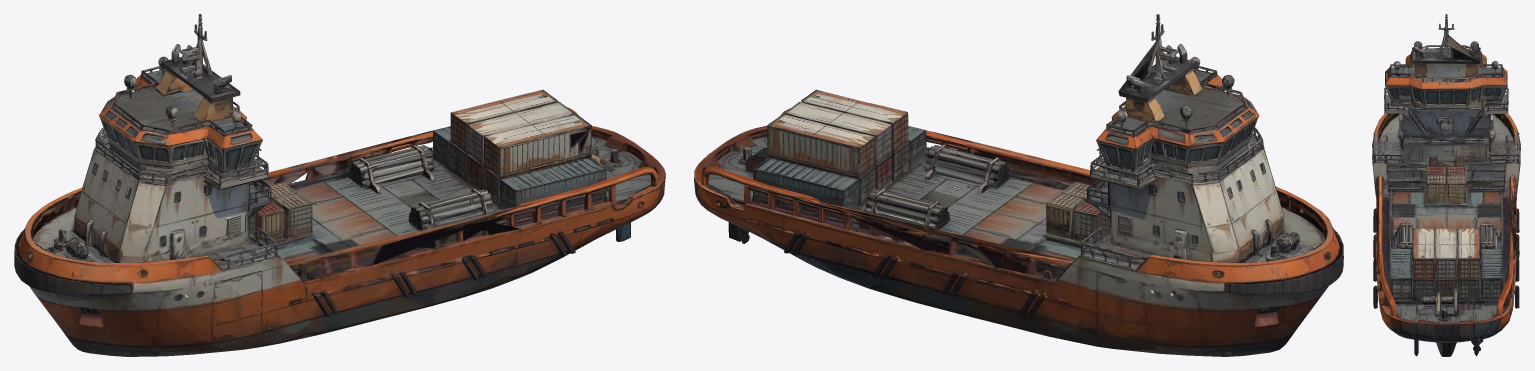
The model's file is supply_vessel.glb.
3 renders of one model, left to right at view 1: azimuth 30°, elevation 25°; view 2: azimuth 150°, elevation 25°; view 3: azimuth 270°, elevation 25°, orthographic. The views are drawn at different scales.
Bounding box in the file's own units: 1.9 × 0.9194 × 0.5857.
Materials: 1 (1 with a texture image).
